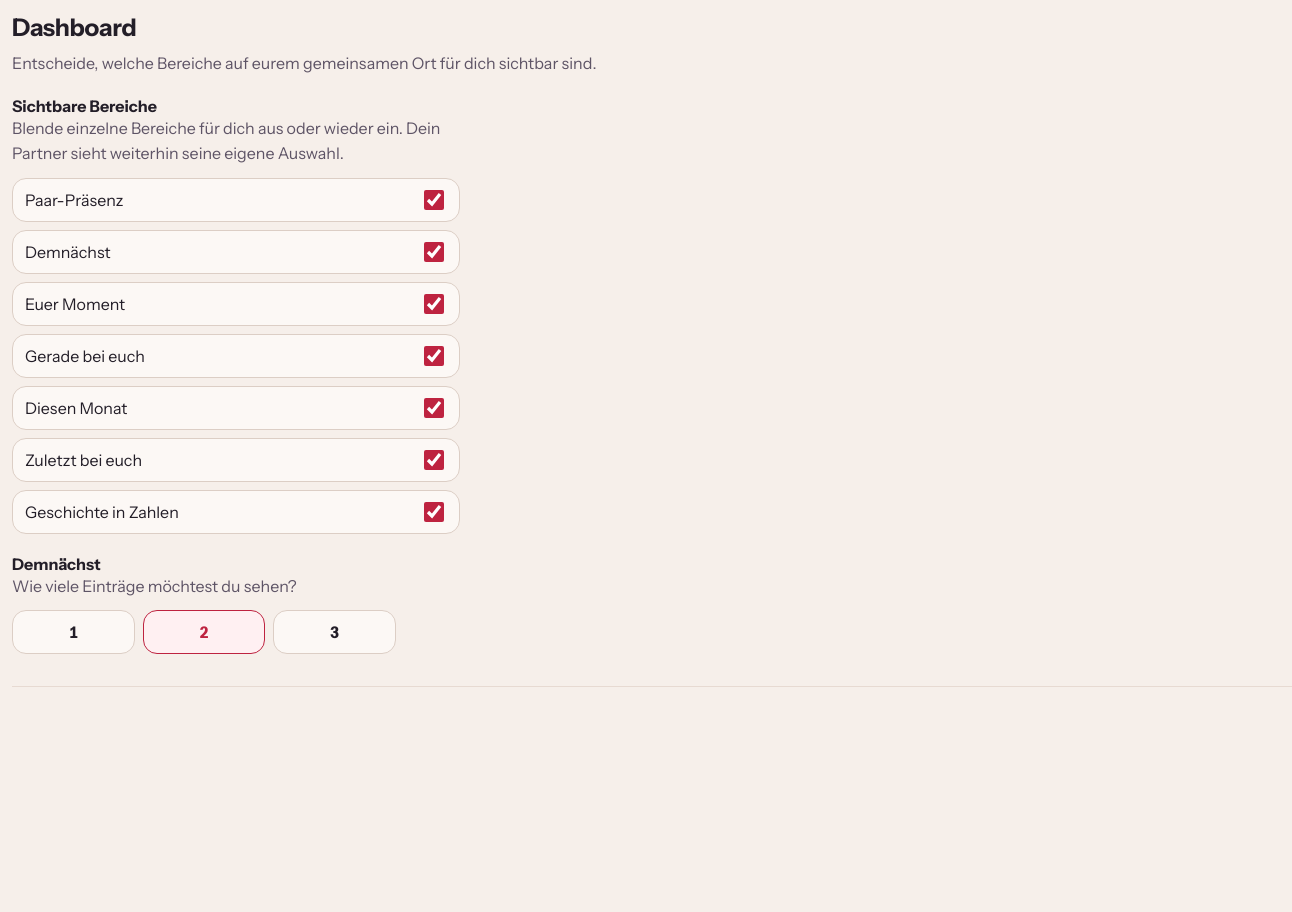
Test: DashboardSettingsPanel › module visibility (#817) › persists hiding one module immediately without touching another
Click the checkbox labelled "Euer Moment": (434, 304) [424,294,444,314]
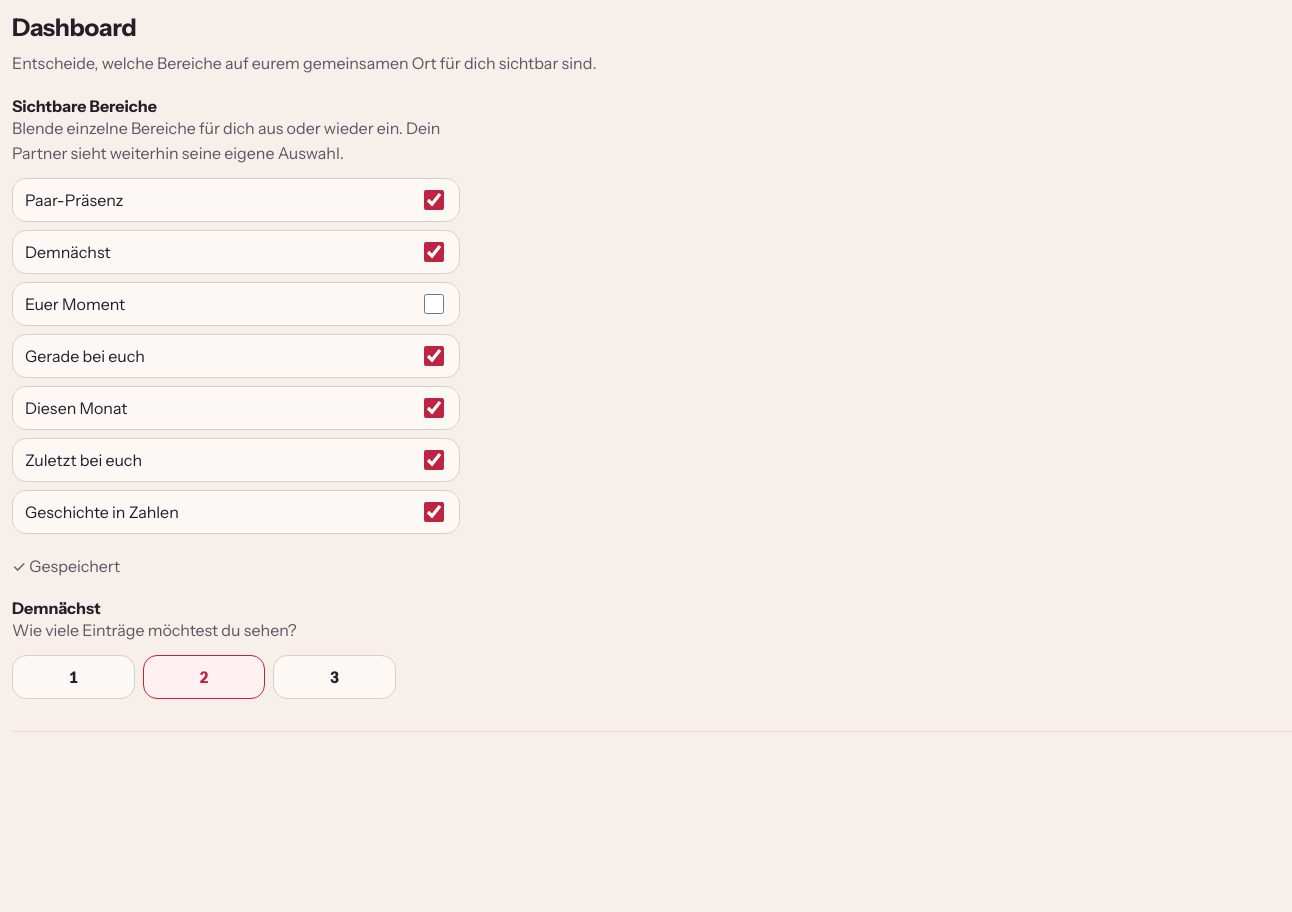
Check: the checkbox labelled "Zuletzt bei euch" is checked, box [424,450,444,470]
Check: the text "✓ Gespeichert" is shown, box [12,556,120,576]
